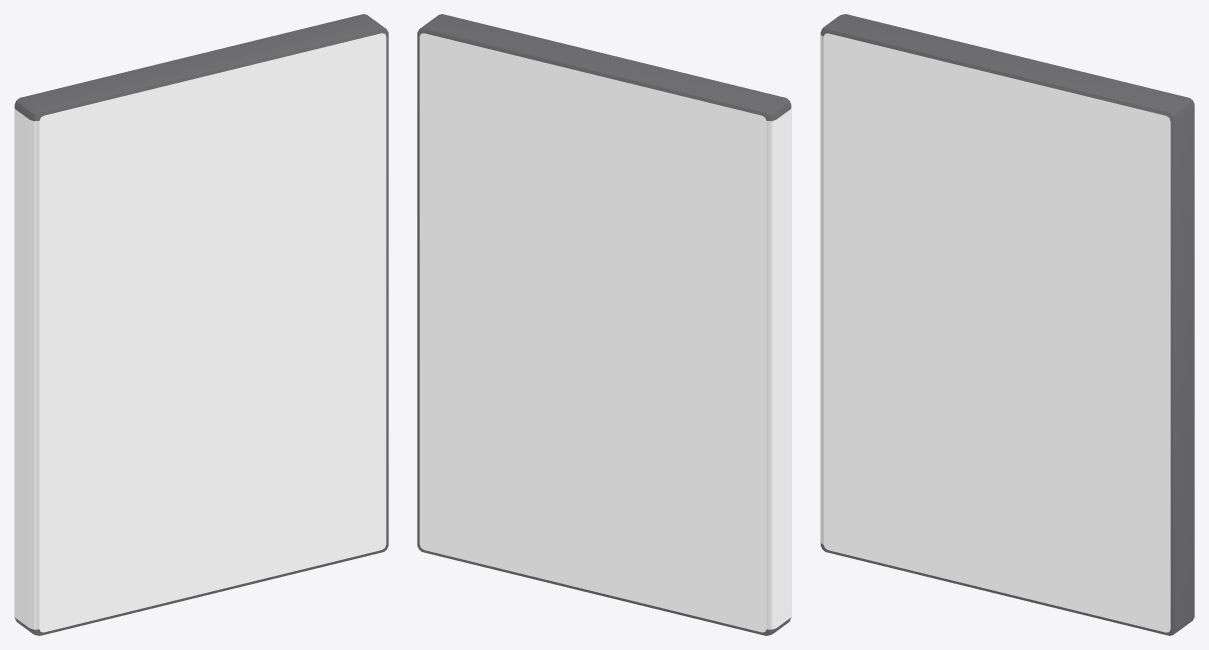
The model's file is dvd_case.glb.
3 renders of one model, left to right at view 1: azimuth 30°, elevation 25°; view 2: azimuth 150°, elevation 25°; view 3: azimuth 330°, elevation 25°, orthographic.
Visible parts, largest first — view 1: cover-front, cover-spine, molded-case; view 2: cover-back, cover-spine, molded-case; view 3: cover-front, molded-case, cover-spine.
Part boxes in pixels (x1=…): cover-front: x1=39, y1=33, x2=386, y2=632; cover-spine: x1=14, y1=107, x2=39, y2=629; molded-case: x1=14, y1=14, x2=388, y2=635; cover-back: x1=419, y1=33, x2=766, y2=632; cover-spine: x1=766, y1=107, x2=791, y2=629; molded-case: x1=417, y1=14, x2=791, y2=635; cover-front: x1=823, y1=33, x2=1170, y2=632; molded-case: x1=820, y1=14, x2=1194, y2=635; cover-spine: x1=820, y1=34, x2=823, y2=544.
Size of the model in its own units: 0.1351 by 0.19 by 0.0142.
4 materials, 3 textured.
